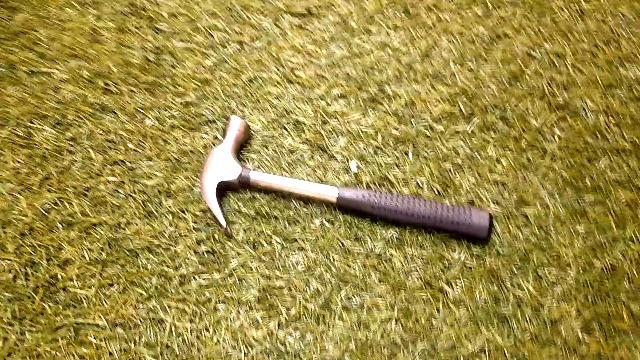hammer: (192, 102, 498, 252)
